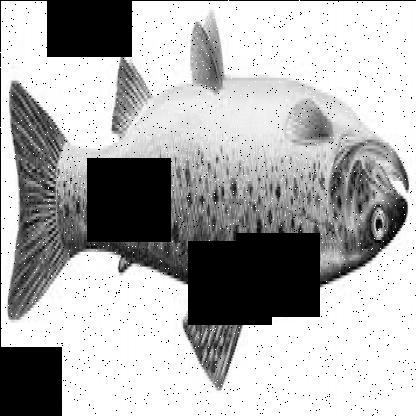fish: (7, 17, 408, 393)
